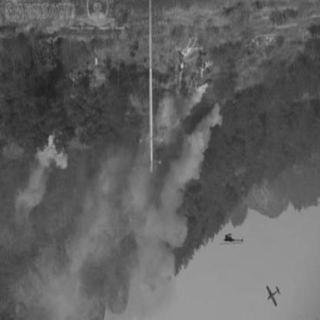Smoke: (149, 190, 185, 288), (86, 171, 116, 255), (35, 137, 63, 205), (183, 124, 207, 186), (126, 166, 142, 228)
